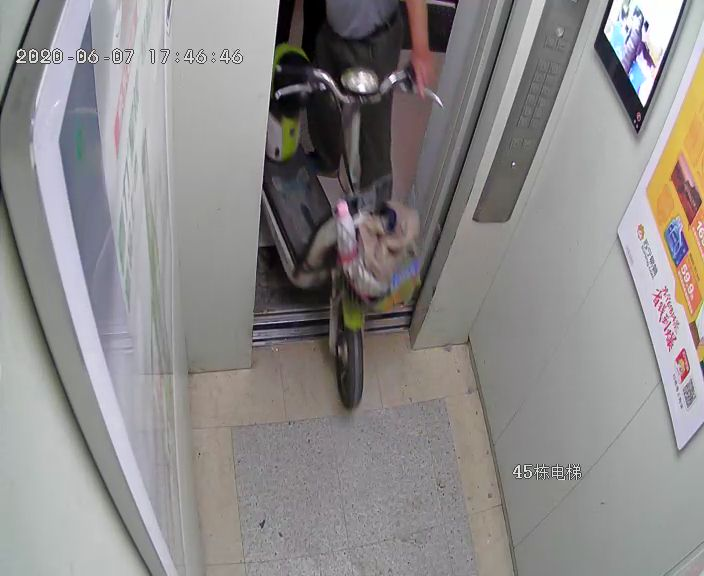Electric-bicycle: (269, 54, 403, 406)
